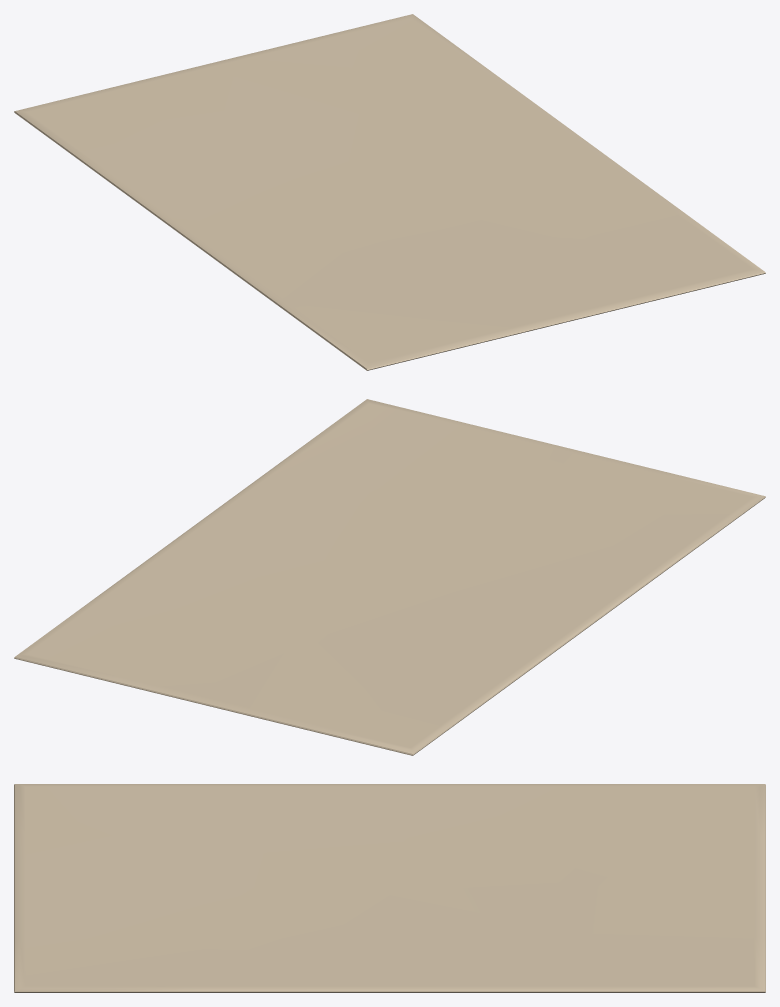
Rendered from tapis_unity.fbx.
3 renders of one model, top to bottom at view 1: azimuth 30°, elevation 25°; view 2: azimuth 150°, elevation 25°; view 3: azimuth 270°, elevation 25°, orthographic. The views are drawn at different scales.
Parts seen in each view (by area): view 1: tapis; view 2: tapis; view 3: tapis.
Part boxes in pixels (x1,y1,x2,y2): tapis: (14, 14, 765, 370); tapis: (14, 399, 765, 755); tapis: (14, 784, 765, 992).
Bounding box in the file's own units: 167 × 1.4 × 256.
